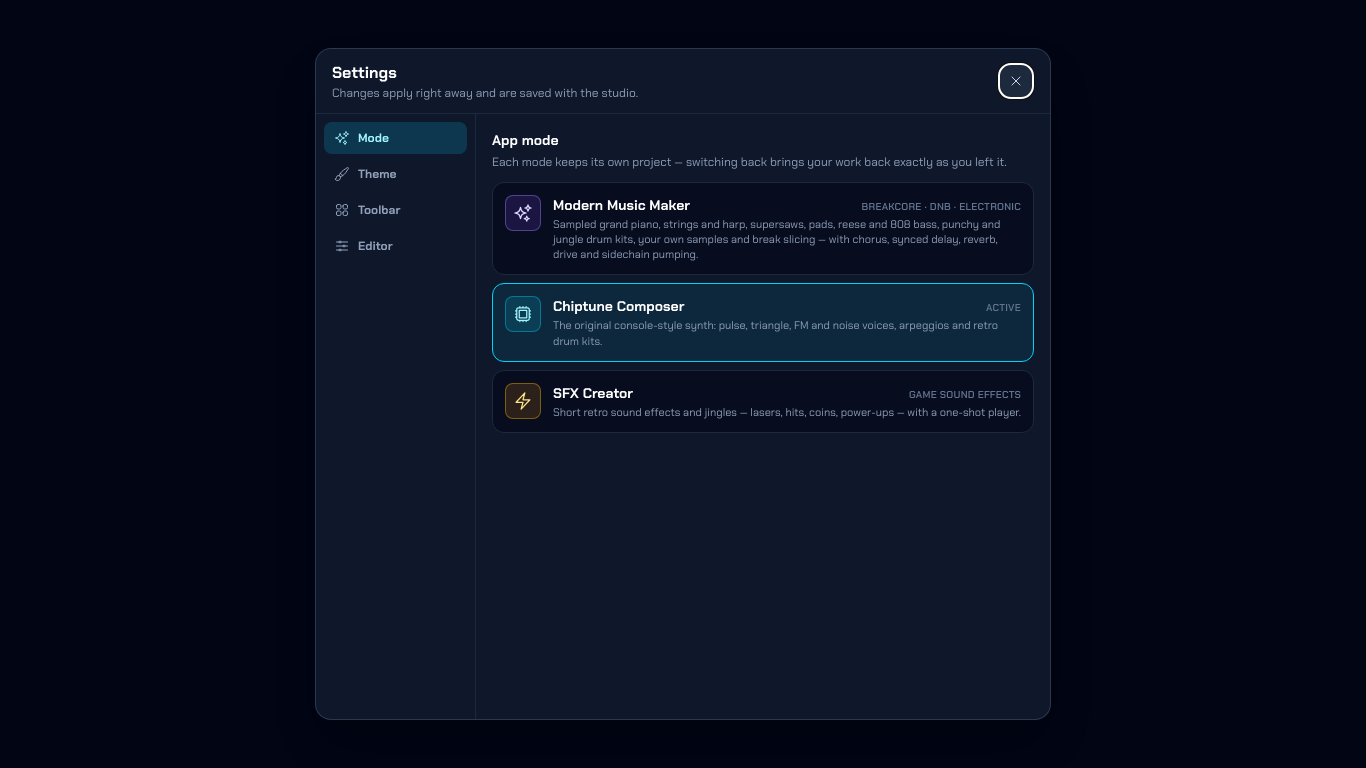
Test: toolbar visibility settings › shows a switch per toolbar item in the Toolbar section
Later steps or results of the test are not shown.
Click the button "Toolbar": (396, 210) 324,194 -> 467,226
(page scrolled)
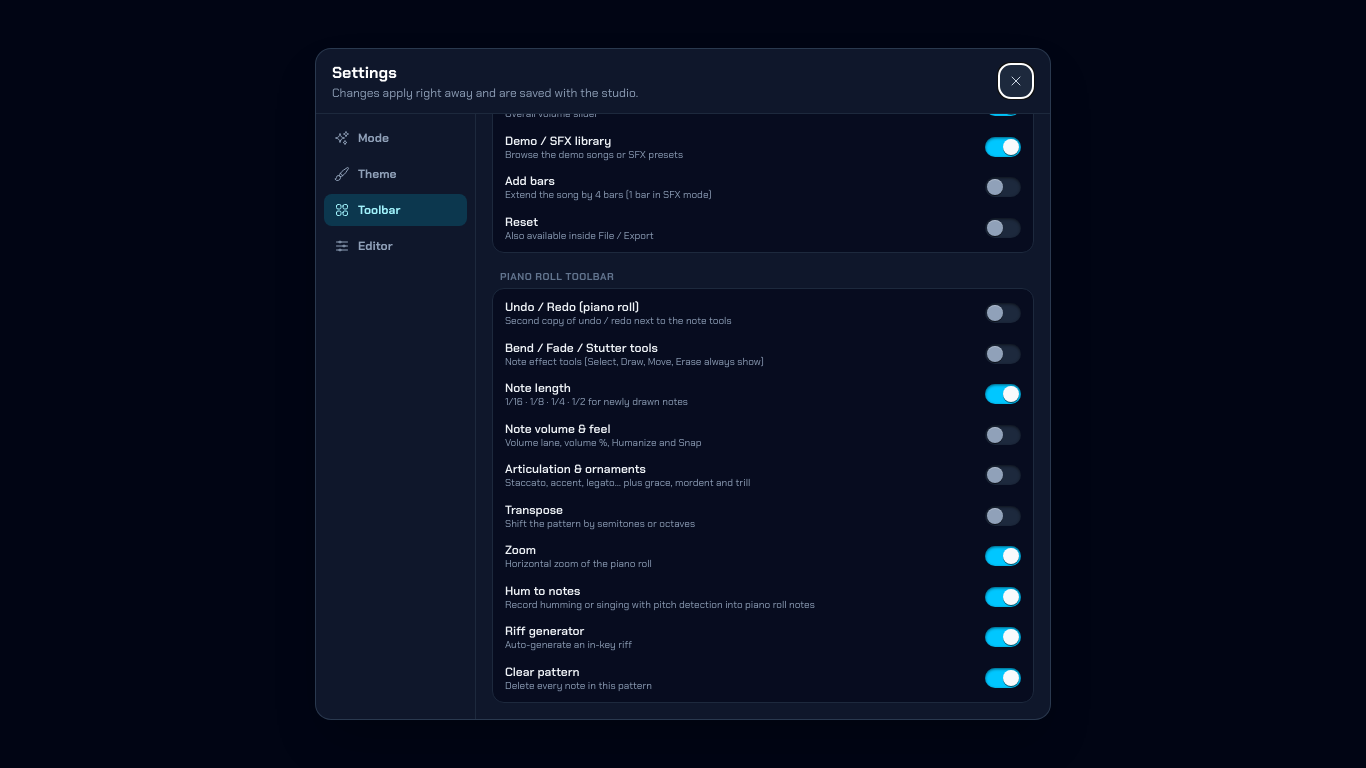
Result: the switch labelled "Articulation" is not checked at 985,465 -> 1021,485
